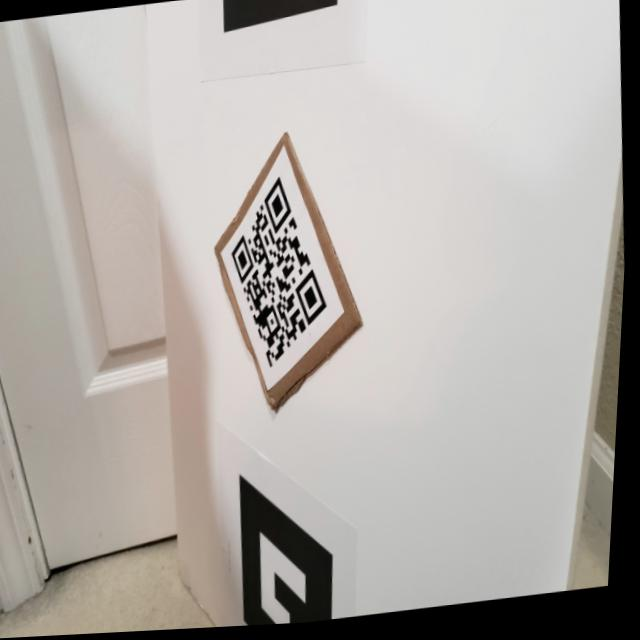QR_CODE: (217, 162, 351, 386)
